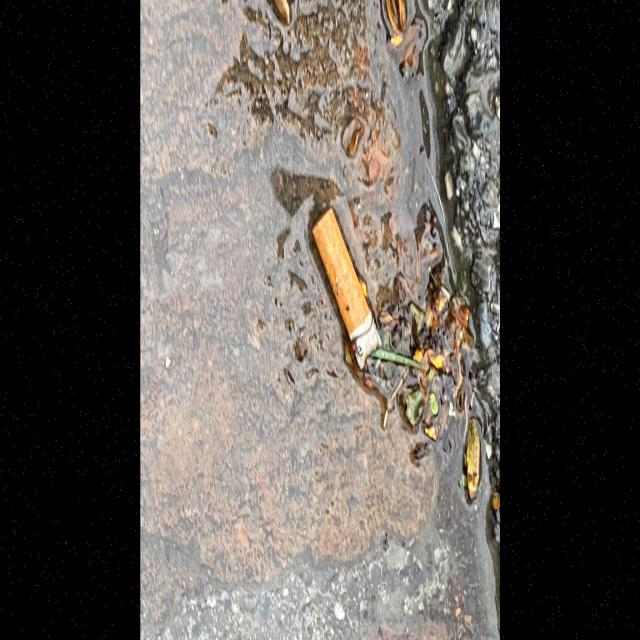other waste: (310, 206, 382, 372)
